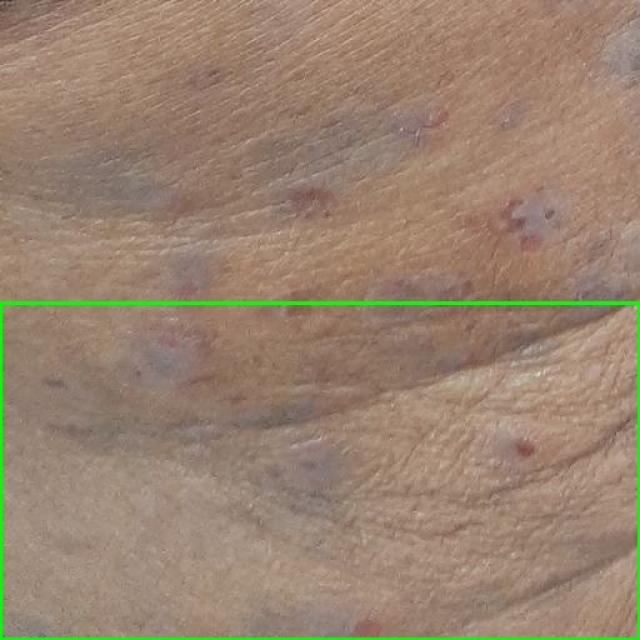Contact Dermatitis: (0, 302, 639, 639)
